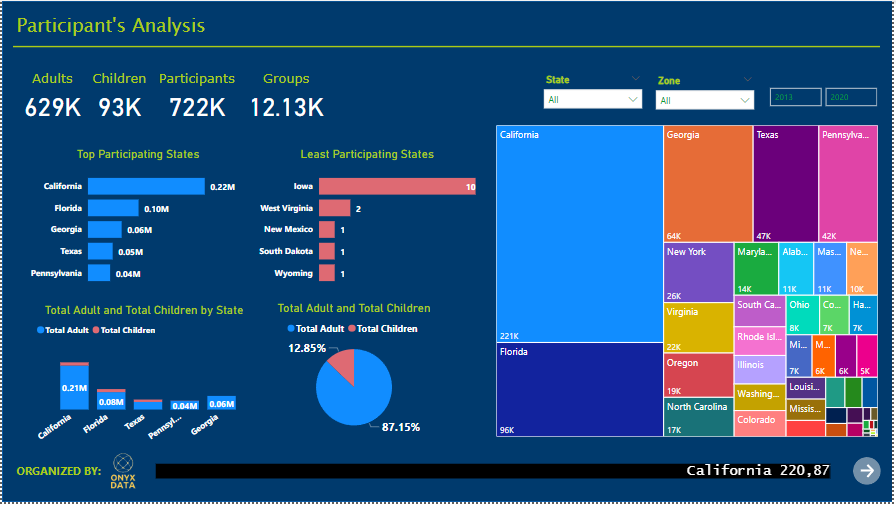

The dashboard page shown, as its layout file describes it:
{"tool":"powerbi","page":{"name":"PARTICIPANT","canvas":[1280,720],"ordinal":1},"visuals":[{"type":"shape","box":[0,0,1280,720],"z":0},{"type":"card","title":" Participants","fields":{"Values":["My Measures.Total Participant"]},"box":[215.7,98.6,128.6,75.7],"z":0,"group":"g1"},{"type":"card","title":"Adults","fields":{"Values":["My Measures.Total Adult"]},"box":[24.3,98.6,95.7,75.7],"z":1000,"group":"g1"},{"type":"card","title":"Groups","fields":{"Values":["Count(Onyx Data DataDNA Dataset Challenge - July 2023.Group Name)"]},"box":[343.5,99.2,129.3,76.2],"z":1000},{"type":"card","title":"Children","fields":{"Values":["My Measures.Total Children"]},"box":[120,98.6,95.7,75.7],"z":2000,"group":"g1"},{"type":"shape","box":[15.7,57.1,1245.7,15.7],"z":2000},{"type":"image","box":[144.3,645.7,60,60],"z":3000},{"type":"textbox","box":[15.7,660,141.4,31.4],"z":4000},{"type":"actionButton","box":[1222.9,655.7,40,40],"z":6000},{"type":"group","id":"g1","title":"people","box":[24.3,98.6,320,75.7],"z":7000},{"type":"ScrollingTextVisual1448795304508","fields":{"Category":["Onyx Data DataDNA Dataset Challenge - July 2023.State"],"Measure Absolute":["My Measures.Total Participant"]},"box":[215.7,660,978.6,31.4],"z":8000},{"type":"barChart","title":"Top Participating States","fields":{"Category":["Onyx Data DataDNA Dataset Challenge - July 2023.State"],"Y":["My Measures.Total Participant"]},"box":[34.5,209.8,321.9,211.3],"z":9000},{"type":"columnChart","fields":{"Category":["Onyx Data DataDNA Dataset Challenge - July 2023.State"],"Y":["My Measures.Total Adult","My Measures.Total Children"]},"box":[44.6,434,319,211.3],"z":10000},{"type":"treemap","fields":{"Group":["Onyx Data DataDNA Dataset Challenge - July 2023.State"],"Values":["My Measures.Total Participant"]},"box":[705.6,173.9,557.6,457],"z":11000},{"type":"slicer","fields":{"Values":["Onyx Data DataDNA Dataset Challenge - July 2023.State"]},"box":[768.9,99.2,161,73.3],"z":12000},{"type":"slicer","fields":{"Values":["Onyx Data DataDNA Dataset Challenge - July 2023.Zone"]},"box":[929.8,100.6,161,73.3],"z":13000},{"type":"pieChart","fields":{"Y":["My Measures.Total Adult","My Measures.Total Children"]},"box":[356.4,431.1,298.9,199.8],"z":14000},{"type":"textbox","box":[15.8,10.1,291.7,54.6],"z":15000},{"type":"barChart","title":"Least Participating States","fields":{"Category":["Onyx Data DataDNA Dataset Challenge - July 2023.State"],"Y":["My Measures.Total Participant"]},"box":[363.6,209.8,321.9,211.3],"z":16000},{"type":"slicer","title":"Cleanup Activities Over Time","fields":{"Values":["Calendar.Year"]},"box":[1090.8,115,172.5,46],"z":17000}]}

Visuals, with their boxes in screenshot pixels (x1, y1, x2, y2), scaled from the page's 1280x720 canvas onto the 896x507 screenshot:
shape: (0, 0, 895, 506)
" Participants" card: (151, 69, 241, 123)
"Adults" card: (17, 69, 84, 123)
"Groups" card: (240, 70, 331, 124)
"Children" card: (84, 69, 151, 123)
shape: (11, 40, 883, 51)
image: (101, 455, 143, 497)
textbox: (11, 465, 110, 487)
actionButton: (856, 462, 884, 490)
"people" group: (17, 69, 241, 123)
ScrollingTextVisual1448795304508 - Onyx Data DataDNA Dataset Challenge - July 2023.State x My Measures.Total Participant: (151, 465, 836, 487)
"Top Participating States" barChart: (24, 148, 249, 297)
columnChart - Onyx Data DataDNA Dataset Challenge - July 2023.State x My Measures.Total Adult: (31, 306, 255, 454)
treemap - Onyx Data DataDNA Dataset Challenge - July 2023.State x My Measures.Total Participant: (494, 122, 884, 444)
slicer - Onyx Data DataDNA Dataset Challenge - July 2023.State: (538, 70, 651, 121)
slicer - Onyx Data DataDNA Dataset Challenge - July 2023.Zone: (651, 71, 764, 122)
pieChart - My Measures.Total Adult x My Measures.Total Children: (249, 304, 459, 444)
textbox: (11, 7, 215, 46)
"Least Participating States" barChart: (255, 148, 480, 297)
"Cleanup Activities Over Time" slicer: (764, 81, 884, 113)
